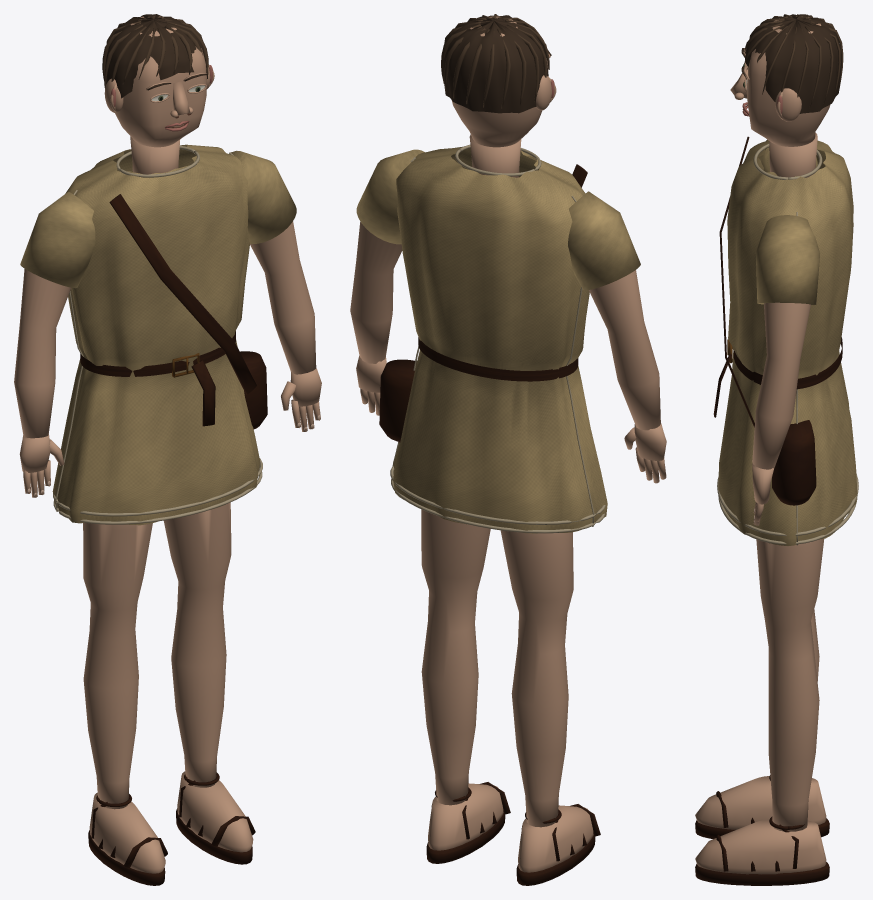
The model's file is civilian_youth.glb.
3 views of the same model, side by side, from view 1: azimuth 30°, elevation 25°; view 2: azimuth 150°, elevation 25°; view 3: azimuth 270°, elevation 25° (orthographic). The views are drawn at different scales.
Visible parts, largest first — view 1: civilian_youth_00, civilian_youth_03, civilian_youth_01; view 2: civilian_youth_03, civilian_youth_00, civilian_youth_01; view 3: civilian_youth_00, civilian_youth_03, civilian_youth_01.
Part boxes in pixels (x1,y1,x2,y2): civilian_youth_00: [14, 14, 321, 873]; civilian_youth_03: [20, 144, 296, 525]; civilian_youth_01: [80, 194, 267, 885]; civilian_youth_03: [356, 146, 640, 533]; civilian_youth_00: [350, 14, 666, 872]; civilian_youth_01: [379, 164, 600, 885]; civilian_youth_00: [695, 14, 858, 874]; civilian_youth_03: [718, 139, 857, 545]; civilian_youth_01: [695, 136, 842, 885].
Bounding box in the file's own units: 0.584 × 1.52 × 0.2698.
Materials: 4 (3 with a texture image).
